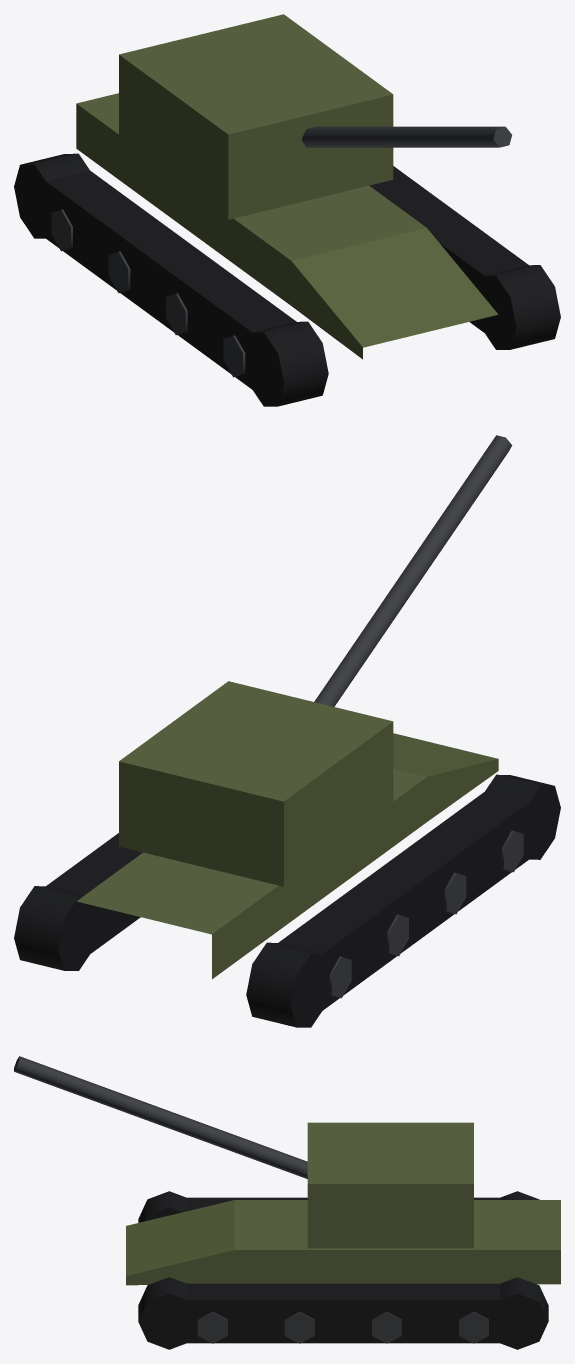
The model's file is veh_ground_sp_artillery_a08.glb.
3 views of the same model, one above another, from view 1: azimuth 30°, elevation 25°; view 2: azimuth 150°, elevation 25°; view 3: azimuth 270°, elevation 25° (orthographic). The views are drawn at different scales.
Visible parts, largest first — view 1: turret, body, track_r, track_l; view 2: turret, track_r, body, track_l; view 3: body, turret, track_l, track_r.
Part boxes in pixels (<box>): turret: <box>119,14,511,219</box>; body: <box>76,93,498,359</box>; track_r: <box>14,153,328,406</box>; track_l: <box>369,166,560,349</box>; turret: <box>119,435,512,886</box>; track_r: <box>246,774,560,1027</box>; body: <box>76,733,498,979</box>; track_l: <box>14,833,142,970</box>; body: <box>126,1200,560,1285</box>; turret: <box>14,1056,473,1248</box>; track_l: <box>138,1277,548,1349</box>; track_r: <box>138,1191,539,1222</box>.
Size of what is drawn, in the model's own units: 4.14 by 4.47 by 9.21.
